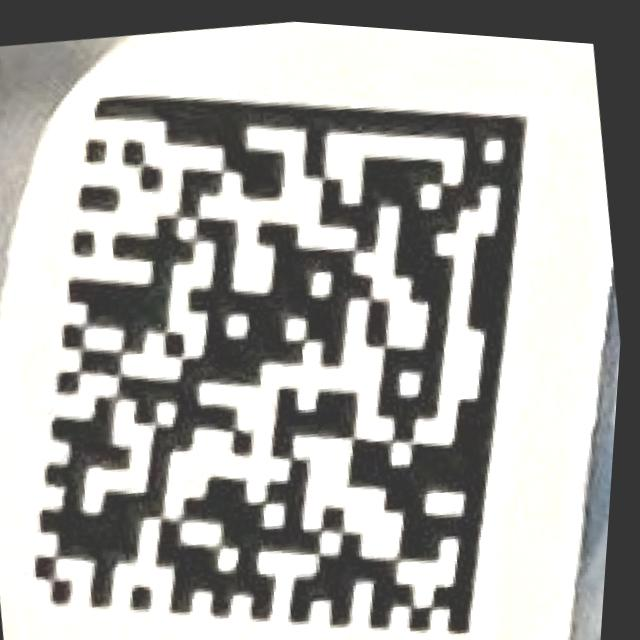QR_CODE: (0, 20, 609, 640)
